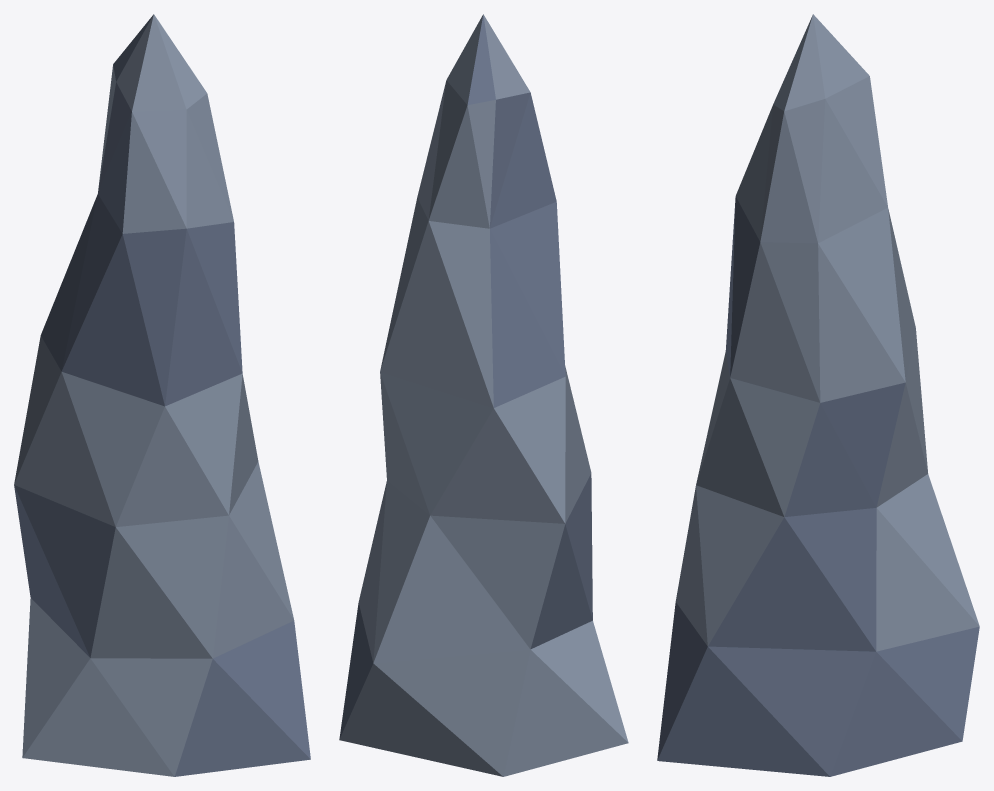
Rendered from rock_spire_reef.fbx.
The picture shows the model from 3 angles, left to right: view 1: azimuth 30°, elevation 25°; view 2: azimuth 150°, elevation 25°; view 3: azimuth 270°, elevation 25°; orthographic projection.
Parts seen in each view (by area): view 1: rock_spire_reef; view 2: rock_spire_reef; view 3: rock_spire_reef.
Part boxes in pixels (left/top/right/bottom): rock_spire_reef: left=14, top=14, right=310, bottom=776; rock_spire_reef: left=339, top=14, right=628, bottom=776; rock_spire_reef: left=657, top=14, right=979, bottom=776.
Size of the model in its own units: 917 by 2381 by 980.
1 material, 1 textured.
